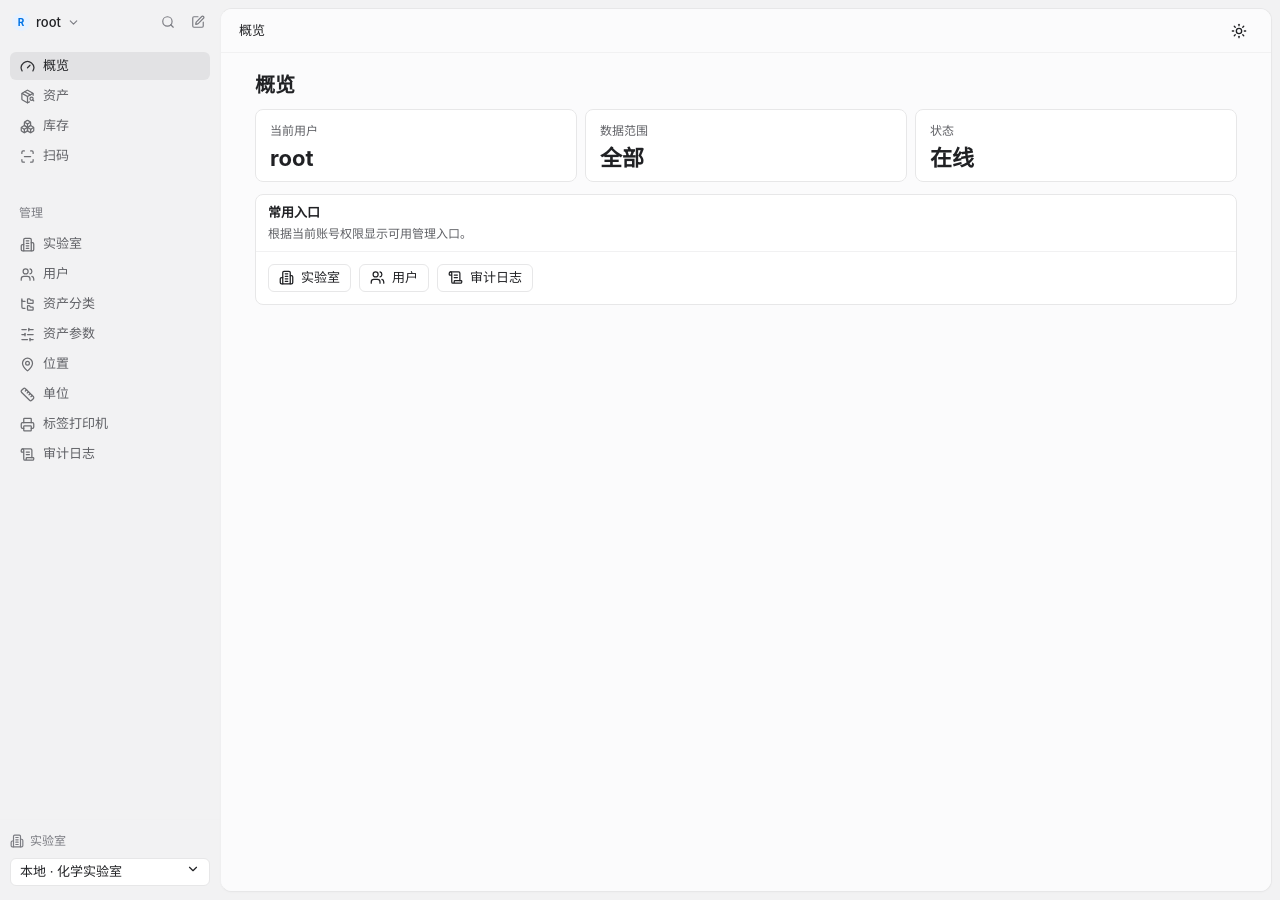
Test: CommandMenu › opens from the sidebar search button
Expected: the heading "概览" is shown, [255,73,295,97]
Click the button named "搜索": (168, 22) [154,8,182,36]
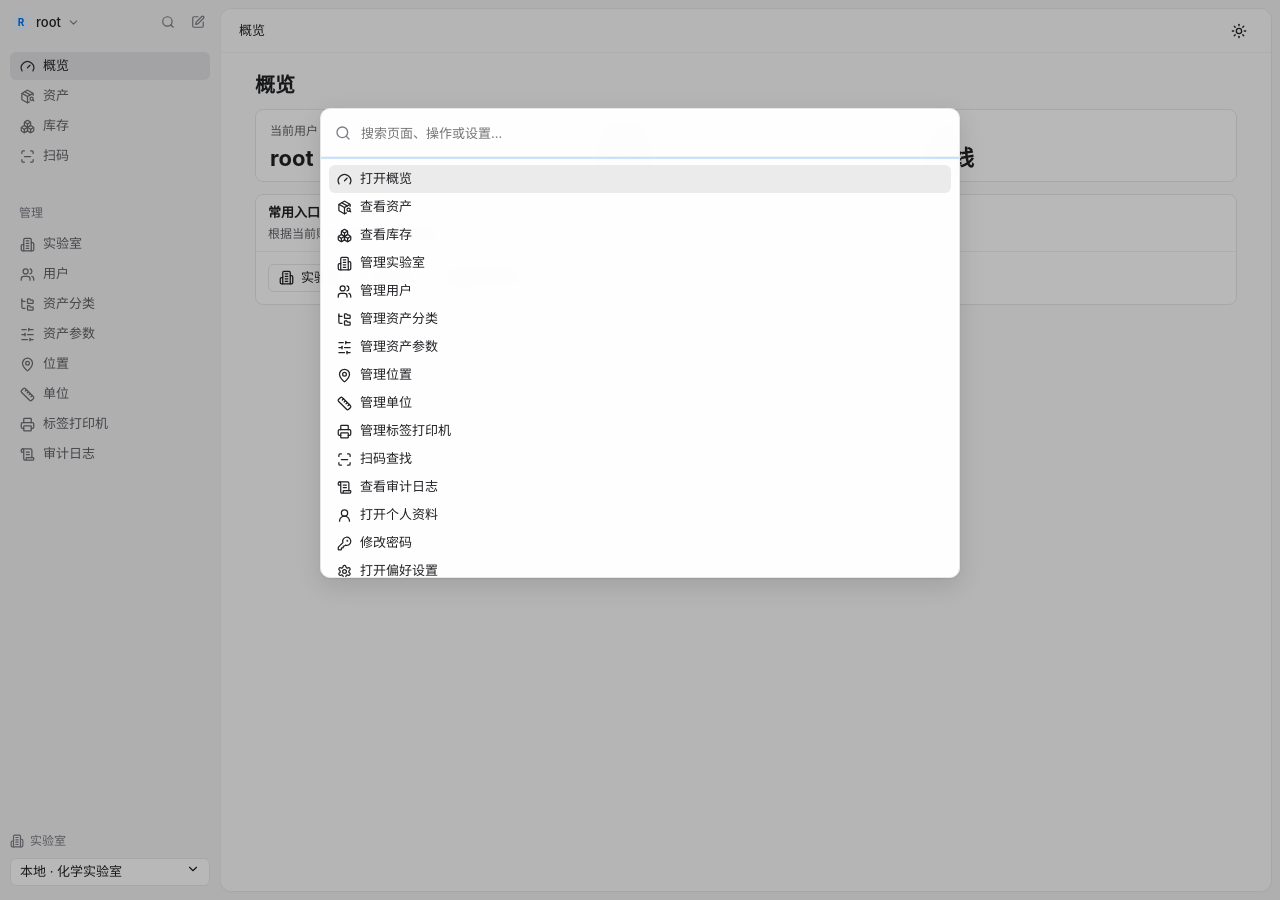
Expected: the dropdown with placeholder "搜索页面、操作或设置..." is shown, [321,109,959,157]
Expected: the option "打开概览" is shown, [329,165,951,193]
